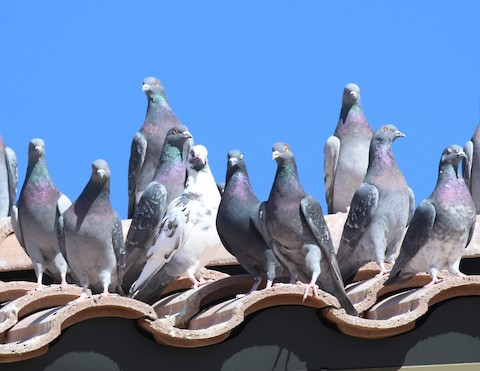pigeon: (110, 125, 204, 298), (255, 140, 353, 305), (330, 121, 419, 289), (127, 146, 221, 301), (383, 136, 474, 290), (212, 147, 299, 302), (6, 136, 91, 294), (119, 66, 202, 224), (63, 160, 128, 306), (322, 80, 379, 218)
